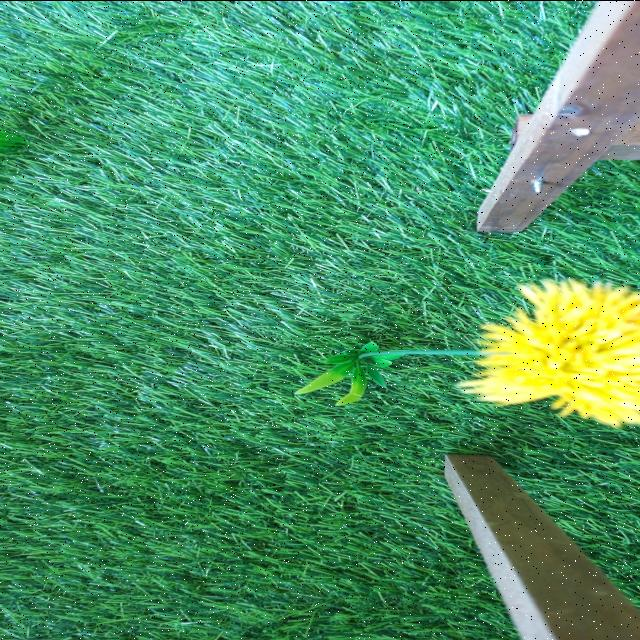base: (296, 340, 404, 404)
flower: (464, 276, 640, 424)
